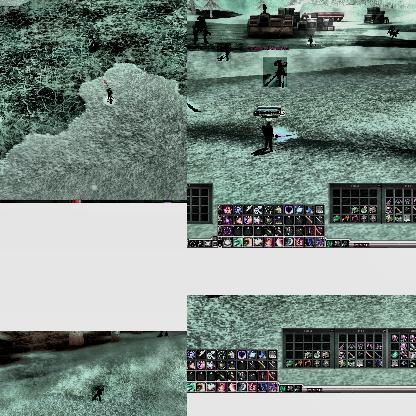caliana: (263, 57, 287, 87), (187, 81, 201, 117), (85, 33, 99, 53), (217, 43, 231, 59), (92, 385, 104, 401), (307, 32, 317, 46)
